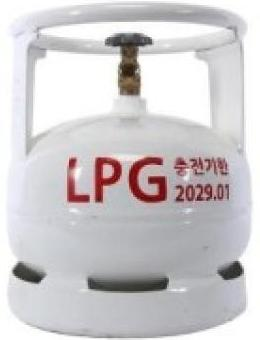cylinder: (1, 1, 260, 340)
